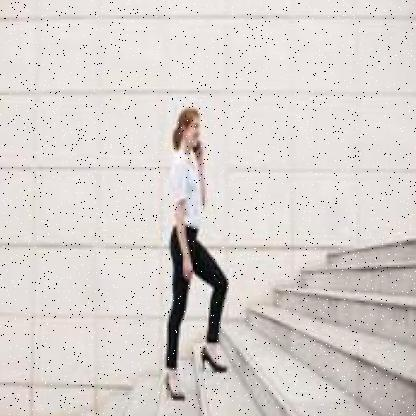stair_up: (146, 310, 366, 416)
